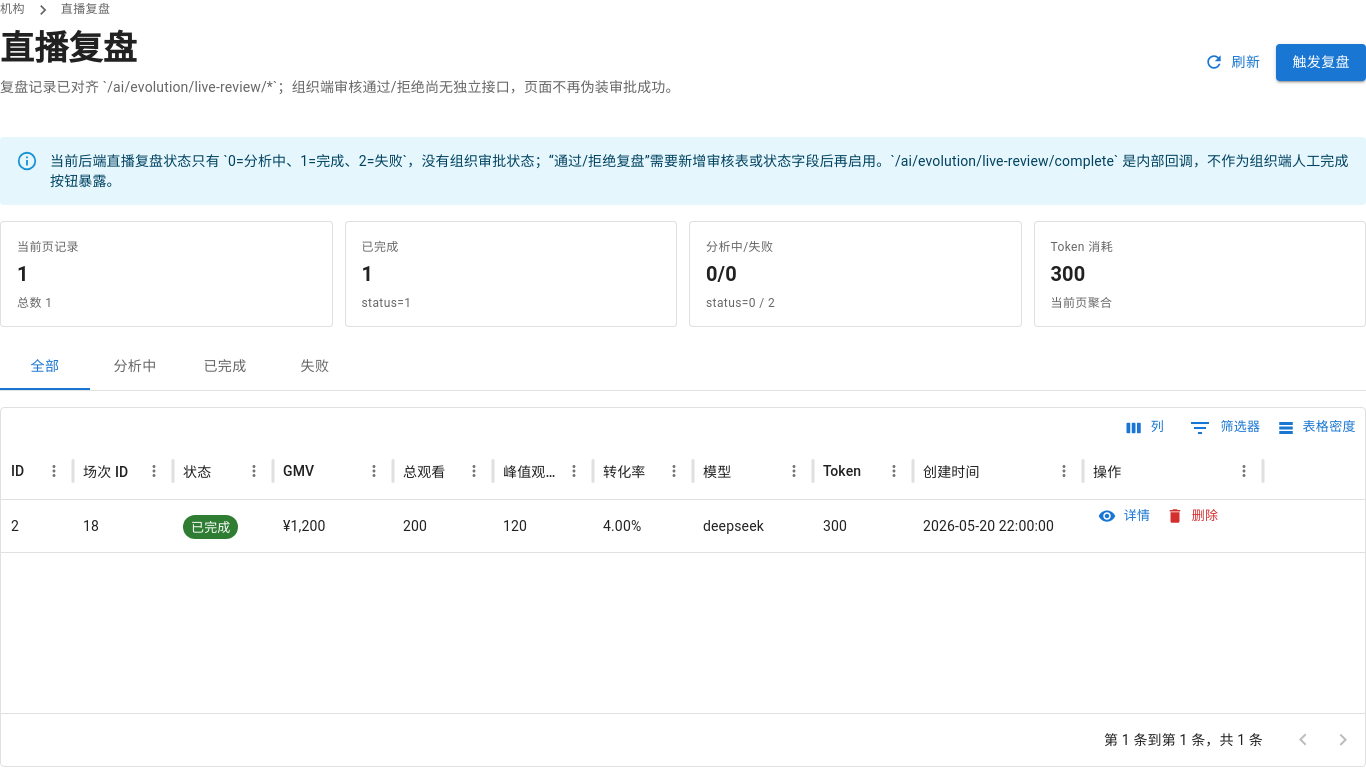
Scenario: Org pages › opens live review detail via get endpoint without approval actions
This screenshot has width=1366, height=768.
Expected: the heading "直播复盘" is shown, [0,28,137,68]
Click the button "详情" at (1125, 516), box [1093,501,1157,532]
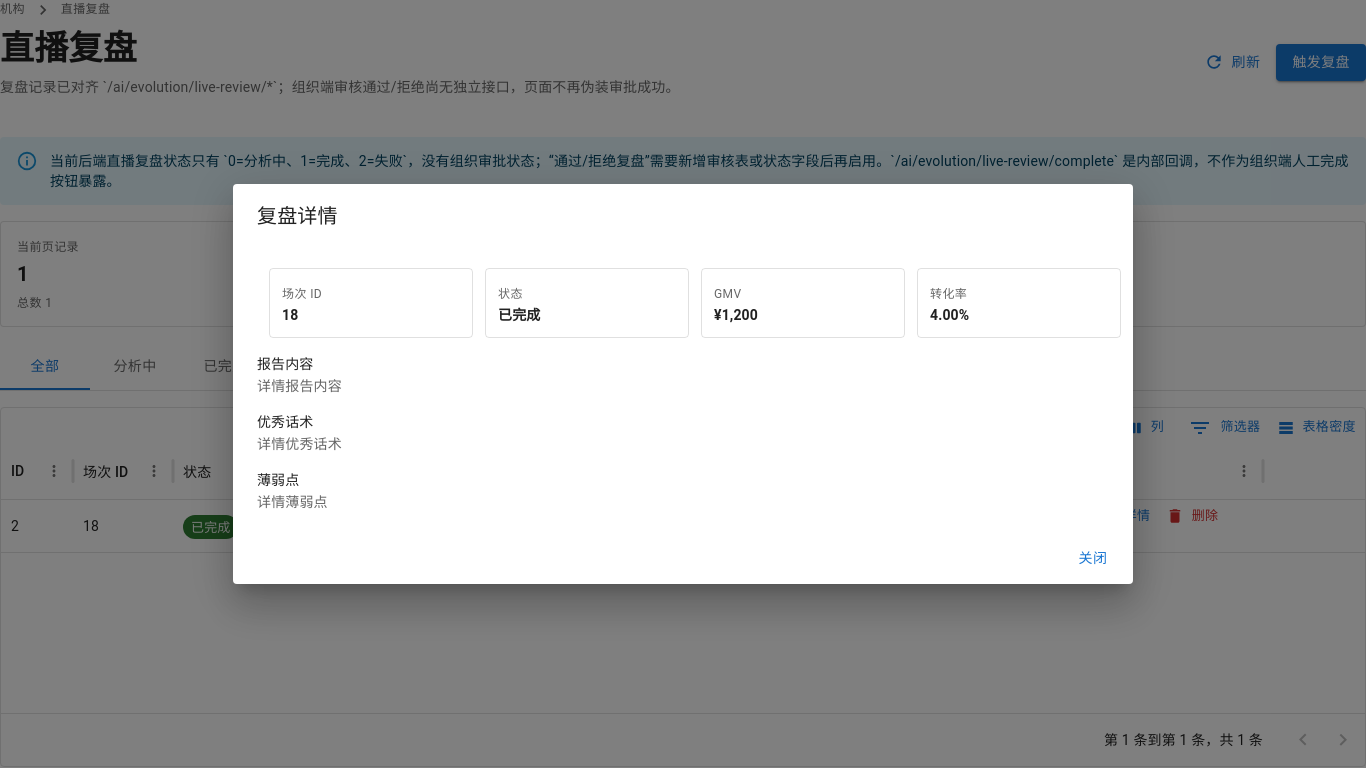
Expected: the text "详情报告内容" is shown, [257,378,342,394]
Expected: the text "详情优秀话术" is shown, [257,436,342,452]
Expected: the text "详情薄弱点" is shown, [257,494,328,510]
